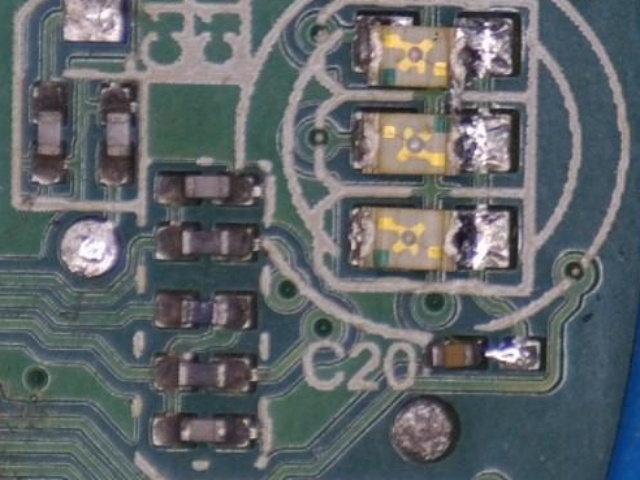pcb_defect: (351, 15, 516, 90), (348, 204, 513, 272), (347, 110, 514, 176), (449, 16, 514, 173), (431, 336, 542, 370), (446, 335, 541, 371)
